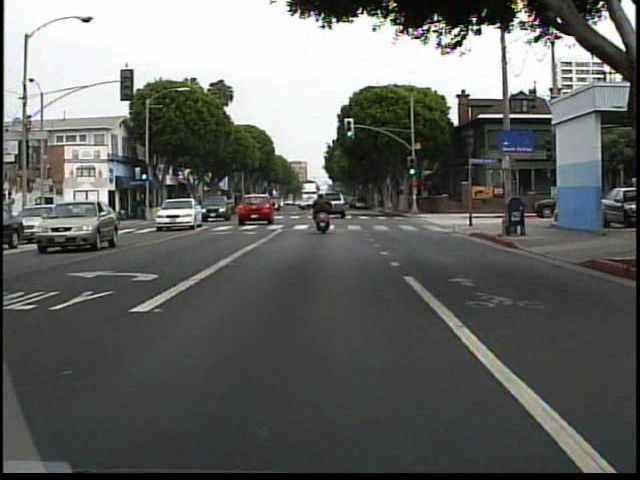person: (309, 185, 341, 244)
